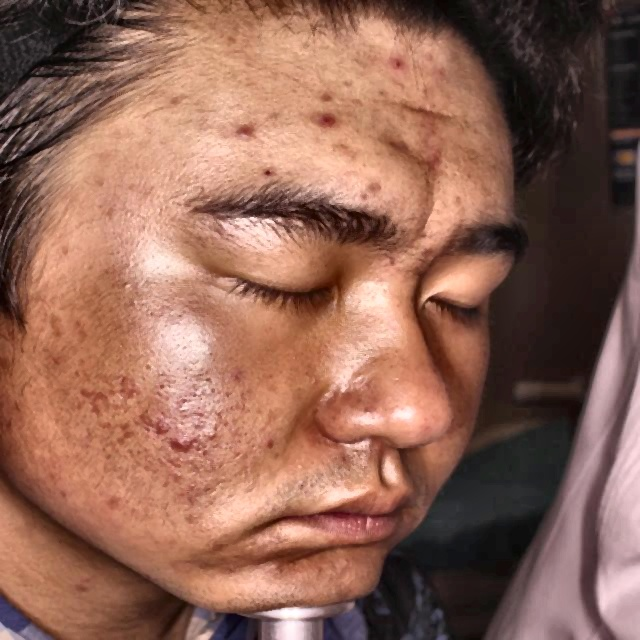pustule: (312, 109, 344, 136), (144, 415, 182, 434), (169, 432, 194, 457), (383, 249, 401, 275), (227, 120, 246, 143), (385, 56, 413, 71)
